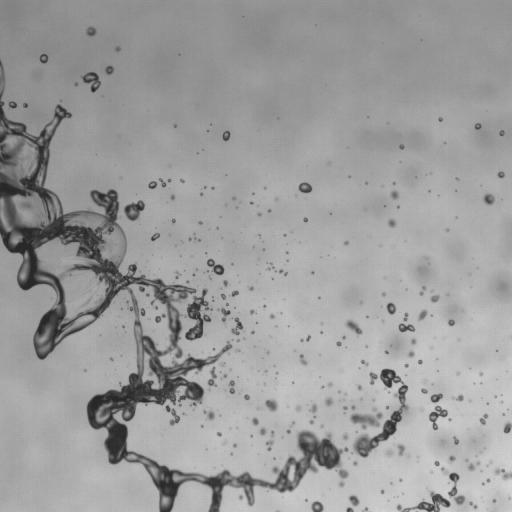droplet: (429, 405, 447, 429), (124, 200, 144, 220), (82, 72, 100, 92), (398, 313, 414, 332), (207, 258, 224, 275), (346, 495, 359, 511), (231, 317, 243, 334), (494, 468, 511, 480), (219, 308, 230, 322), (265, 399, 277, 411), (298, 182, 311, 193), (483, 193, 494, 204), (311, 501, 323, 511), (203, 410, 214, 420), (386, 302, 395, 314), (430, 393, 442, 402), (418, 310, 427, 320), (503, 422, 511, 433), (86, 27, 95, 36), (452, 394, 463, 401), (397, 444, 404, 455), (222, 131, 230, 140), (325, 397, 333, 406), (480, 414, 487, 424), (266, 440, 273, 450), (105, 66, 113, 74), (390, 191, 398, 199), (388, 219, 396, 227), (309, 404, 317, 412), (40, 54, 47, 63), (148, 181, 157, 188), (430, 295, 439, 302), (8, 101, 16, 108), (151, 233, 159, 240), (259, 427, 266, 435), (385, 449, 393, 456), (497, 171, 504, 178), (448, 456, 455, 463), (230, 290, 238, 296), (252, 417, 258, 425), (475, 123, 481, 129), (267, 264, 273, 270), (448, 319, 454, 325), (408, 351, 414, 357), (175, 271, 180, 278), (361, 360, 368, 365), (453, 437, 458, 444), (411, 338, 416, 344), (421, 388, 427, 393), (296, 405, 301, 411), (343, 433, 348, 439), (339, 481, 344, 487), (223, 280, 228, 285), (221, 294, 226, 299), (250, 309, 255, 314), (306, 335, 311, 340), (336, 341, 341, 346), (244, 394, 249, 399), (434, 461, 439, 466), (357, 384, 361, 390), (399, 144, 403, 149), (270, 314, 274, 319), (309, 419, 313, 424), (270, 431, 274, 436), (116, 47, 120, 51), (23, 103, 27, 107), (438, 117, 442, 121), (499, 131, 503, 135), (180, 179, 184, 183), (249, 286, 253, 290), (418, 360, 422, 364), (220, 362, 224, 366), (328, 382, 332, 386), (351, 405, 355, 409), (286, 429, 290, 433), (217, 432, 221, 436), (353, 461, 357, 465), (486, 478, 490, 482), (171, 195, 174, 199), (303, 218, 307, 221), (382, 292, 385, 296), (343, 406, 346, 410), (172, 219, 175, 222), (345, 241, 348, 244), (146, 293, 149, 296), (405, 364, 408, 367), (479, 372, 482, 375), (291, 422, 294, 425), (381, 490, 384, 493), (74, 83, 77, 85), (199, 221, 201, 224), (188, 238, 191, 240), (251, 331, 254, 333), (300, 339, 303, 341), (457, 372, 459, 375), (233, 444, 236, 446), (174, 125, 176, 127), (168, 179, 170, 181), (250, 202, 252, 204), (311, 271, 313, 273), (226, 303, 228, 305), (154, 306, 156, 308), (236, 349, 238, 351), (267, 351, 269, 353), (385, 351, 387, 353), (110, 358, 112, 360), (386, 406, 388, 408), (421, 408, 423, 410), (399, 479, 401, 481)
ligament: (0, 60, 344, 511), (350, 368, 408, 457), (396, 490, 450, 511), (441, 467, 465, 505), (345, 319, 362, 335), (207, 367, 216, 386), (468, 462, 479, 471), (300, 354, 307, 365), (83, 297, 91, 306), (229, 380, 234, 393), (419, 286, 426, 295), (159, 179, 166, 186), (279, 269, 287, 275), (469, 502, 476, 508), (362, 507, 369, 511)
